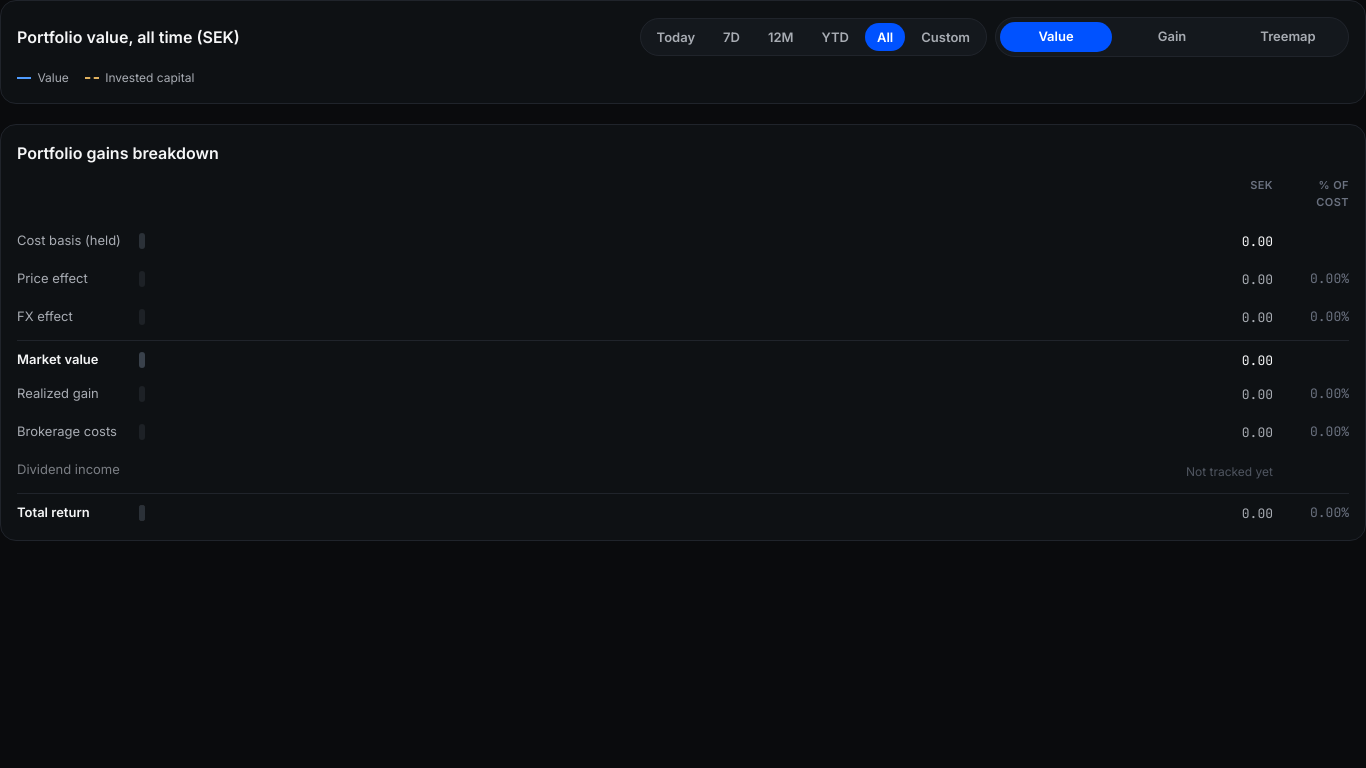
it: Dashboard gain view › names the historical date a trade lost its exchange rate
The width and height of the screenshot is (1366, 768).
Step 1. Click the button "Gain" → (1172, 37), box [1116,22,1228,52]
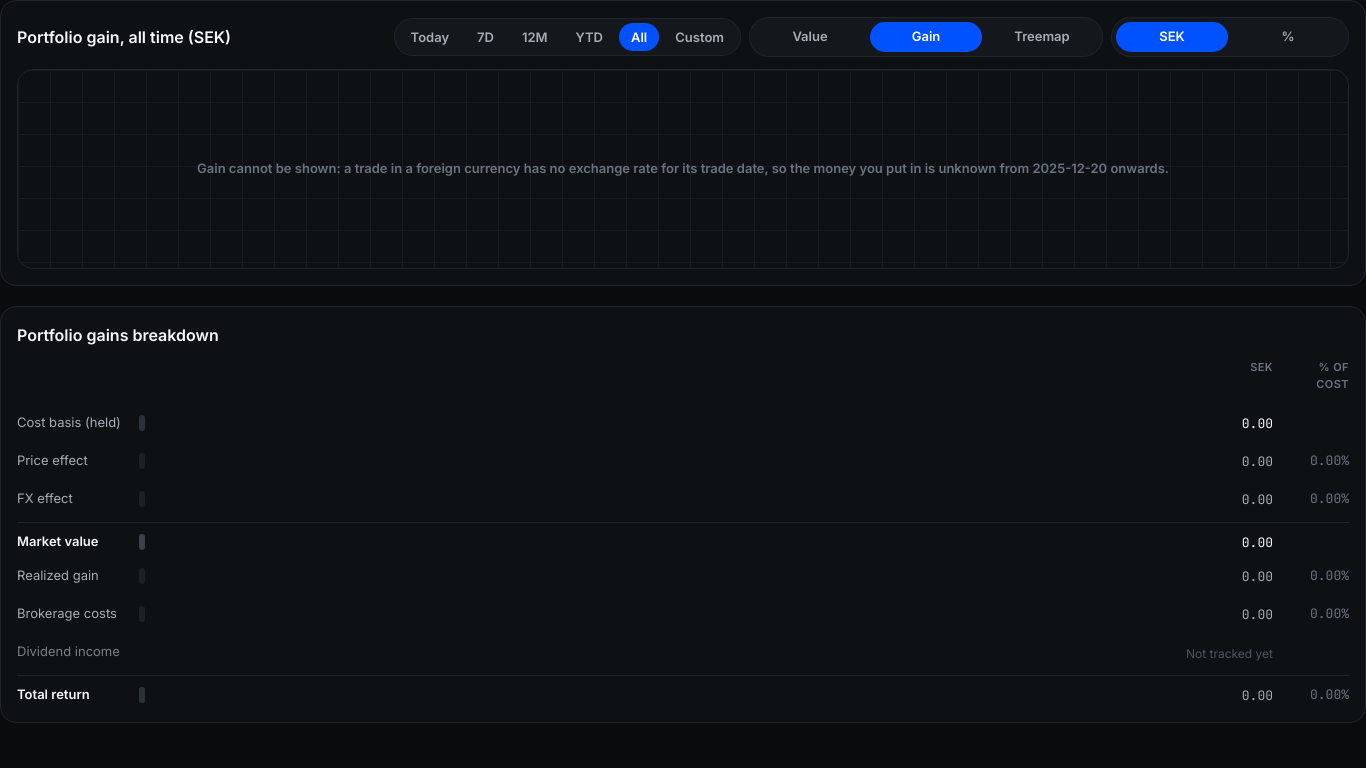
Expected: the text "from 2025-12-20 onwards" is shown, [197,160,1169,176]
